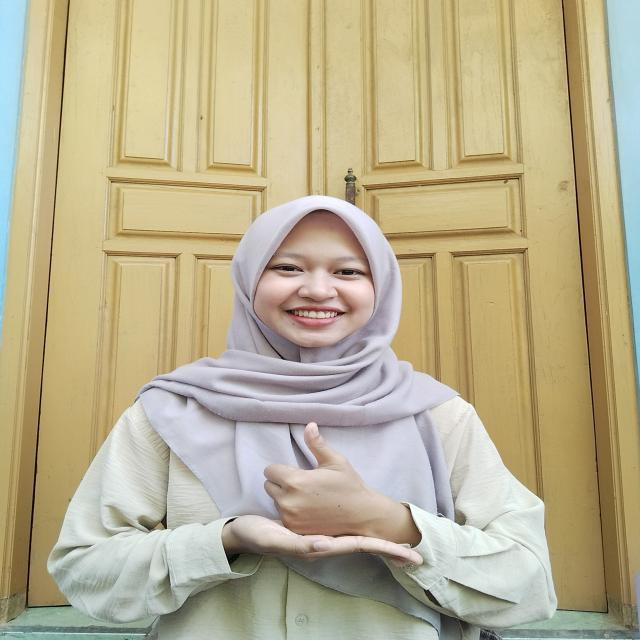cantik: (208, 405, 424, 587)
